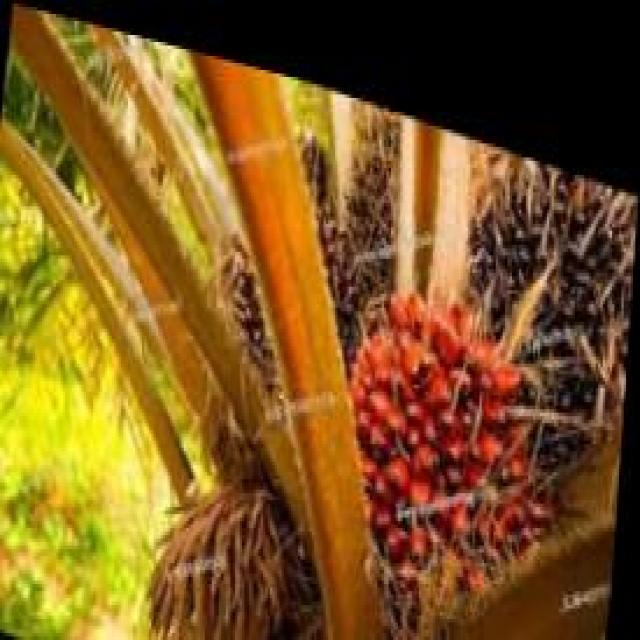Ripefruit: (338, 245, 556, 601)
